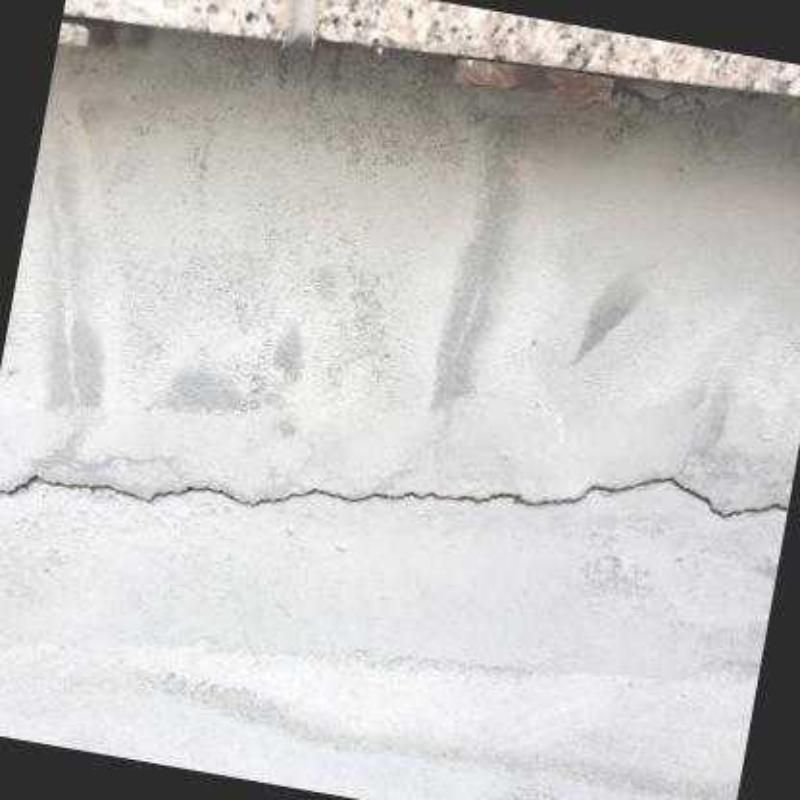pothole: (0, 473, 787, 521)
